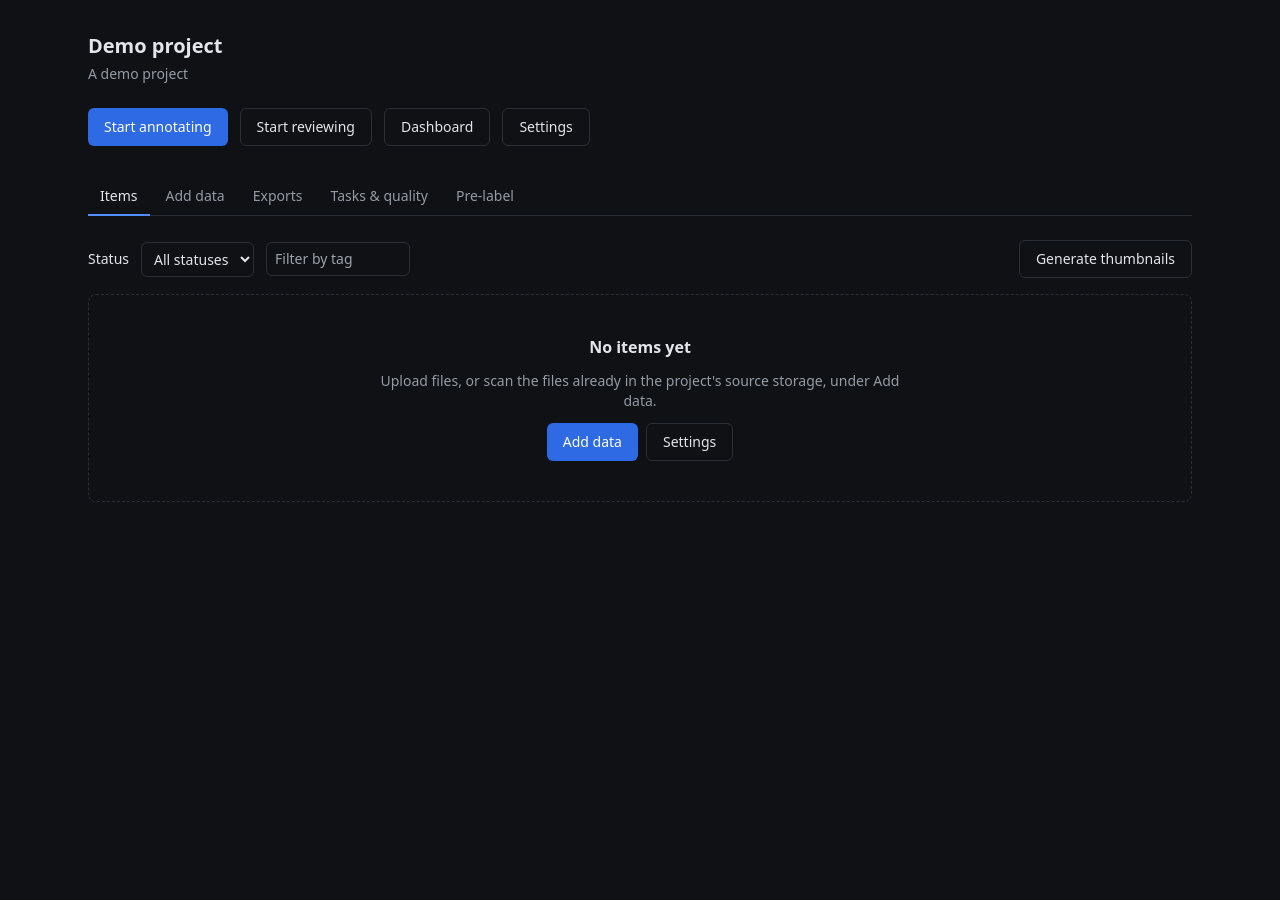
Scenario: ProjectDetailPage › tells a new project how to get items, not that a filter hides them
Expected: the text "No items yet" is shown, [589,335,691,359]
What coordinates should you click on to do the following:
click the button "Add data"
I would click on:
 (592, 442)
Its box is [547,423,638,461].
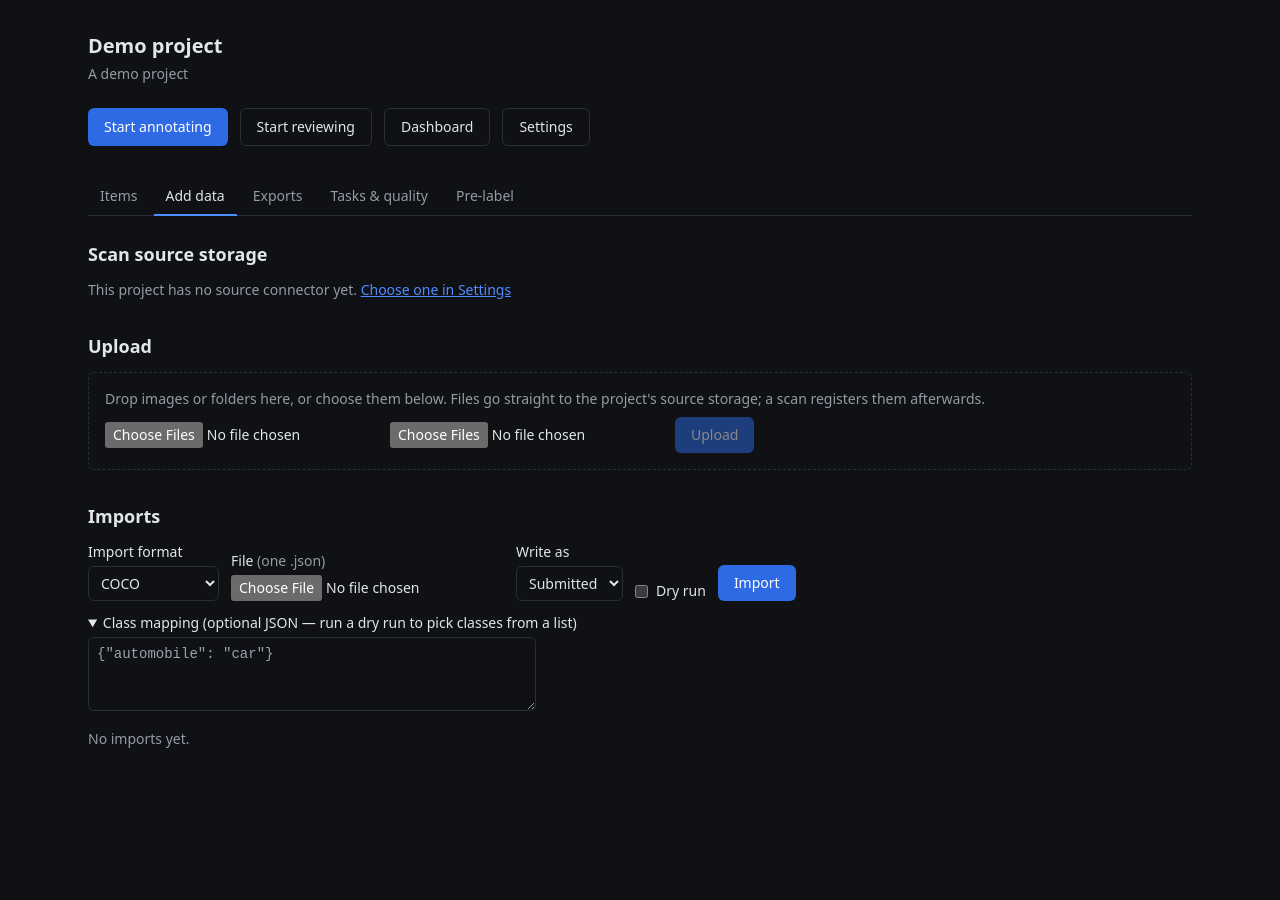
Expected: the heading "Scan source storage" is shown, [88,242,268,266]
